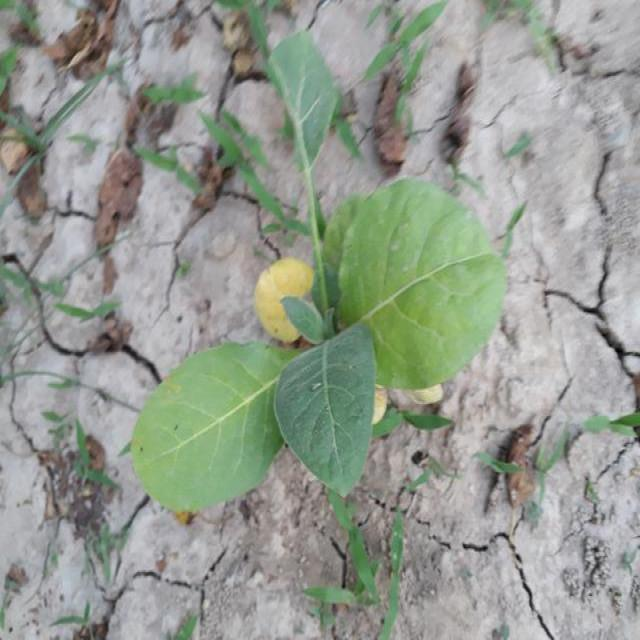crop: (124, 18, 512, 523)
